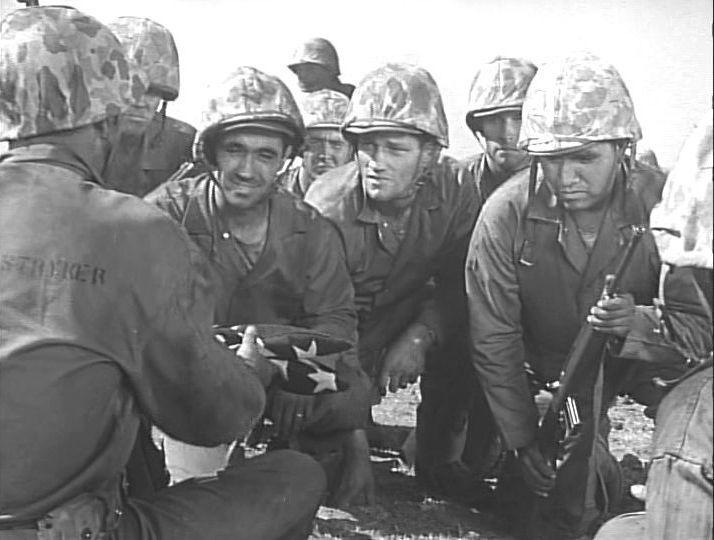gun: (512, 222, 661, 523)
